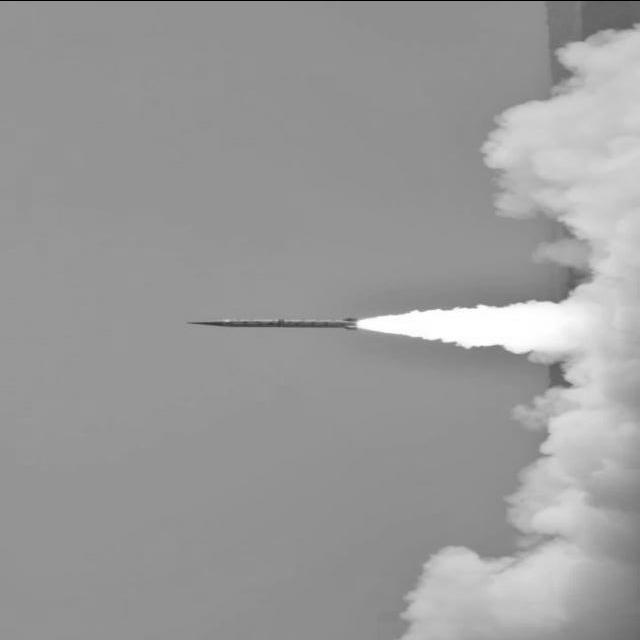missile: (180, 314, 364, 333)
